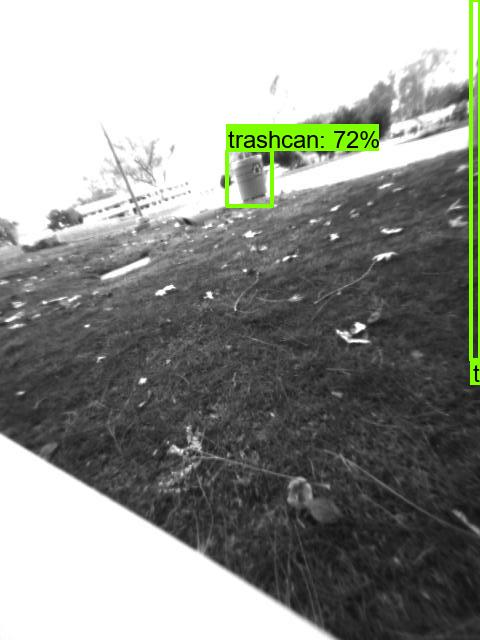trashcan: (227, 152, 270, 200)
